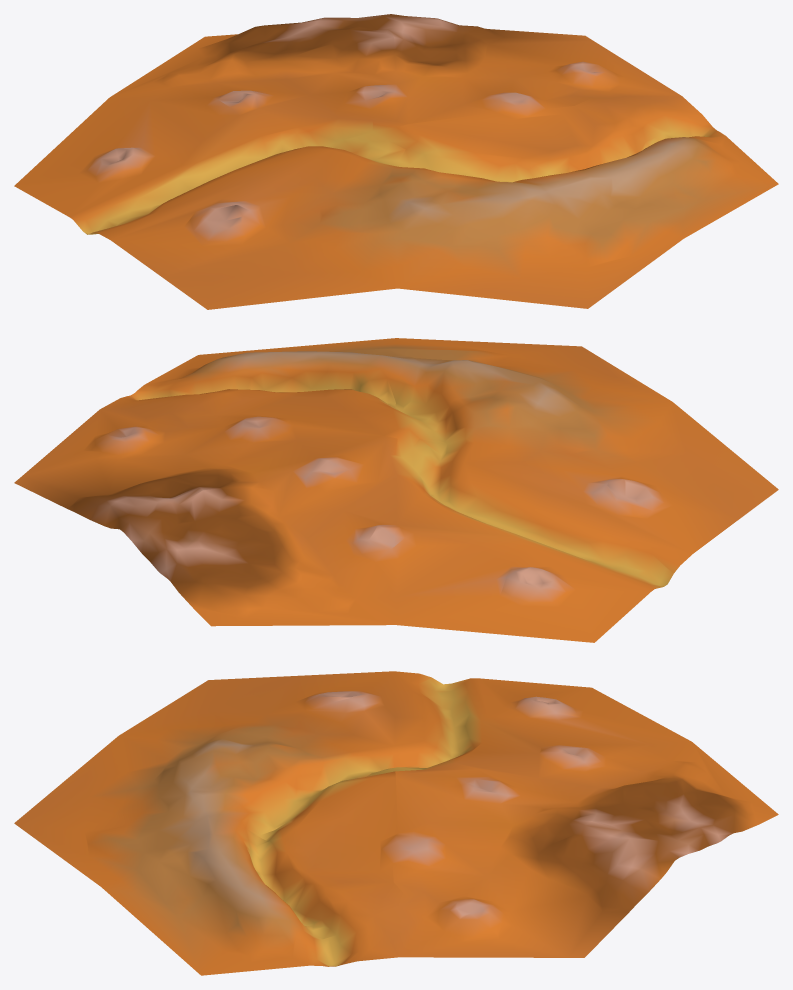
The model's file is Hex_Segment.fbx.
3 views of the same model, one above another, from view 1: azimuth 30°, elevation 25°; view 2: azimuth 150°, elevation 25°; view 3: azimuth 270°, elevation 25° (orthographic). The views are drawn at different scales.
Parts seen in each view (by area): view 1: Icosphere.001; view 2: Icosphere.001; view 3: Icosphere.001.
Part boxes in pixels (<box>): Icosphere.001: <box>14,14,778,309</box>; Icosphere.001: <box>14,338,778,642</box>; Icosphere.001: <box>14,671,778,975</box>.
Size of the model in its own units: 429 by 43.55 by 480.
